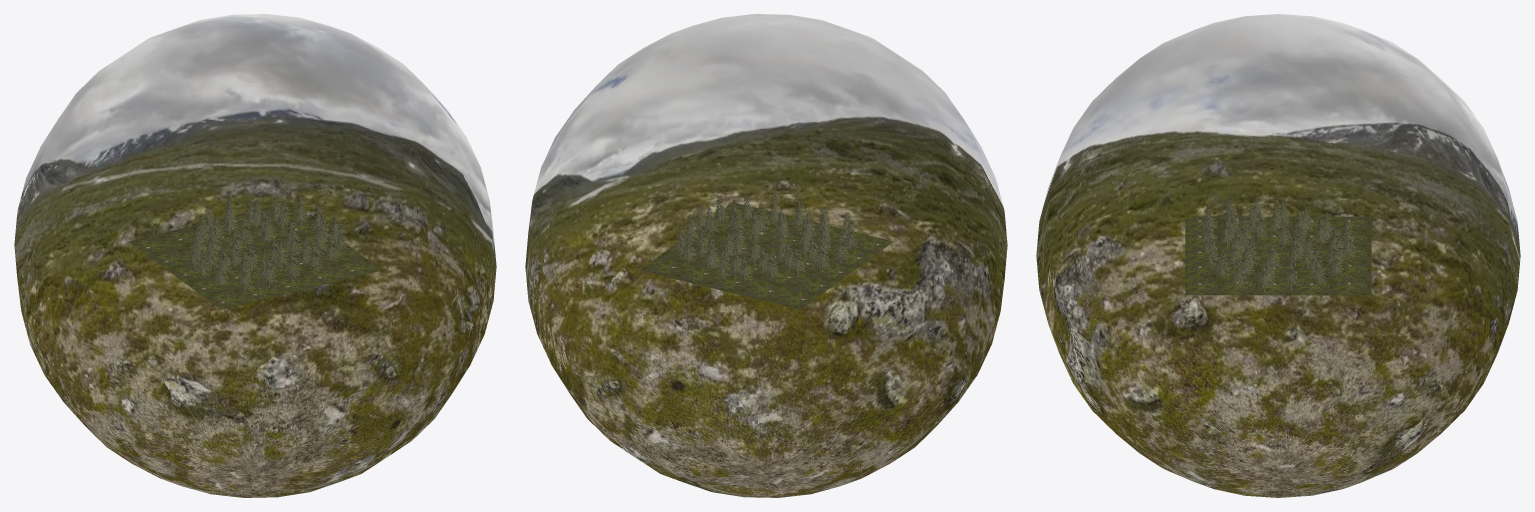
The model's file is pine_forest.glb.
The picture shows the model from 3 angles, left to right: view 1: azimuth 30°, elevation 25°; view 2: azimuth 150°, elevation 25°; view 3: azimuth 270°, elevation 25°; orthographic projection.
Parts seen in each view (by area): view 1: Object_8, Object_6, Object_4; view 2: Object_8, Object_6, Object_4; view 3: Object_8, Object_6, Object_4.
Part boxes in pixels (<box>): Object_8: <box>14,14,496,497</box>; Object_6: <box>128,202,382,309</box>; Object_4: <box>189,193,348,291</box>; Object_8: <box>525,14,1007,497</box>; Object_6: <box>639,202,893,309</box>; Object_4: <box>675,194,857,281</box>; Object_8: <box>1036,14,1520,497</box>; Object_6: <box>1185,216,1371,295</box>; Object_4: <box>1201,195,1355,291</box>.
Size of the model in its own units: 141 by 141 by 141.
Materials: 3 (3 with a texture image).
